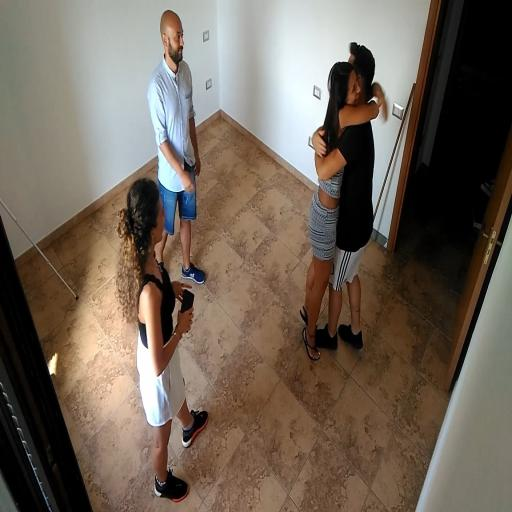nao-violencia: (295, 30, 394, 376)
